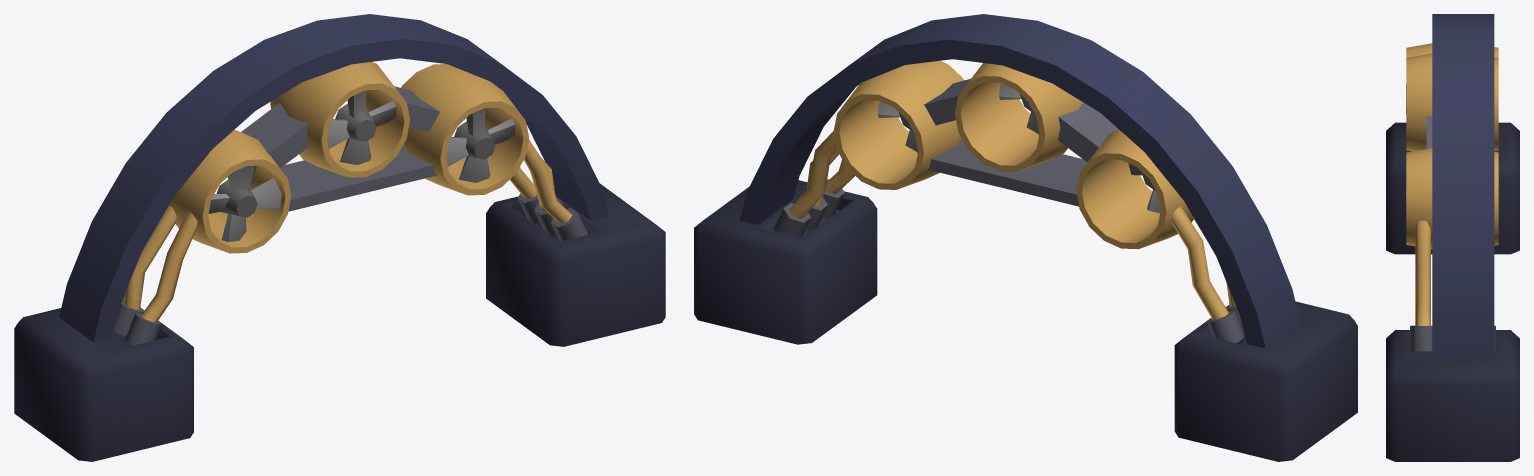
Rendered from Gate_1.fbx.
The picture shows the model from 3 angles, left to right: view 1: azimuth 30°, elevation 25°; view 2: azimuth 150°, elevation 25°; view 3: azimuth 270°, elevation 25°; orthographic projection. The views are drawn at different scales.
Parts seen in each view (by area): view 1: Gate_1; view 2: Gate_1; view 3: Gate_1.
Boxes of the visible parts, <box> form: Gate_1: <box>14,14,665,461</box>; Gate_1: <box>694,14,1357,461</box>; Gate_1: <box>1386,14,1519,461</box>.
Bounding box in the file's own units: 3.31 × 1.76 × 0.7238.
